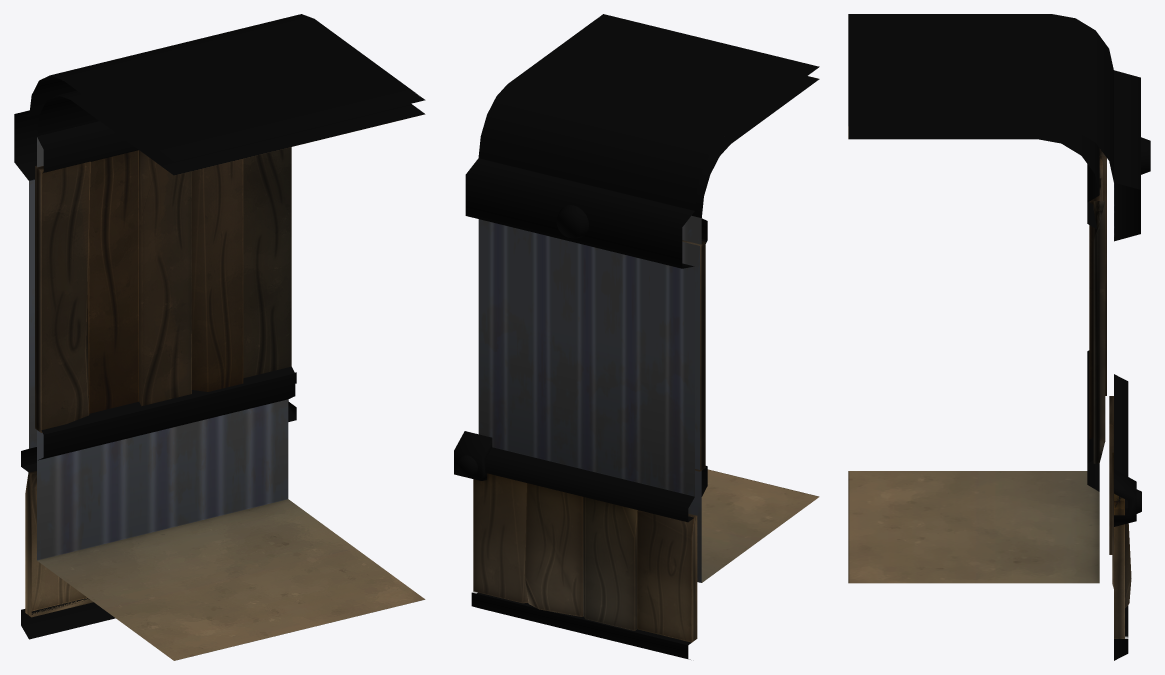
Rendered from SM_Mur_Train_FINAL.fbx.
3 views of the same model, side by side, from view 1: azimuth 30°, elevation 25°; view 2: azimuth 150°, elevation 25°; view 3: azimuth 270°, elevation 25° (orthographic). The views are drawn at different scales.
Parts seen in each view (by area): view 1: Milieu_Mur_Train_low_FINALE2; view 2: Milieu_Mur_Train_low_FINALE2; view 3: Milieu_Mur_Train_low_FINALE2.
Part boxes in pixels (x1=…): Milieu_Mur_Train_low_FINALE2: x1=14, y1=14, x2=425, y2=660; Milieu_Mur_Train_low_FINALE2: x1=454, y1=14, x2=819, y2=659; Milieu_Mur_Train_low_FINALE2: x1=848, y1=14, x2=1150, y2=660.
Size of the model in its own units: 2.13 by 4.44 by 2.28.
